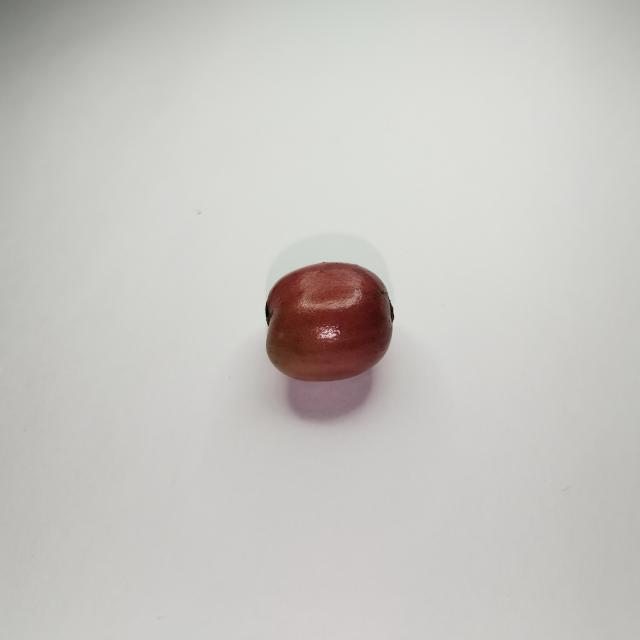Sano: (267, 262, 391, 381)
